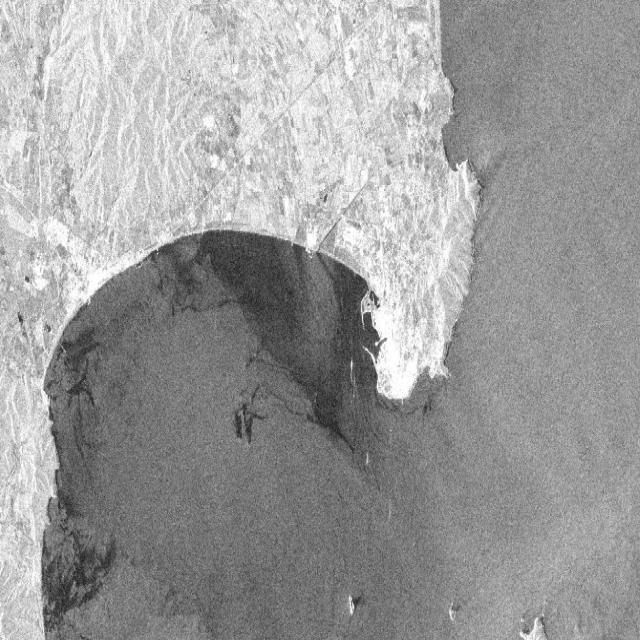look-alike: (297, 259, 370, 460), (200, 231, 306, 355), (42, 338, 110, 502), (38, 510, 118, 629)
oil-spill: (224, 372, 271, 456)
